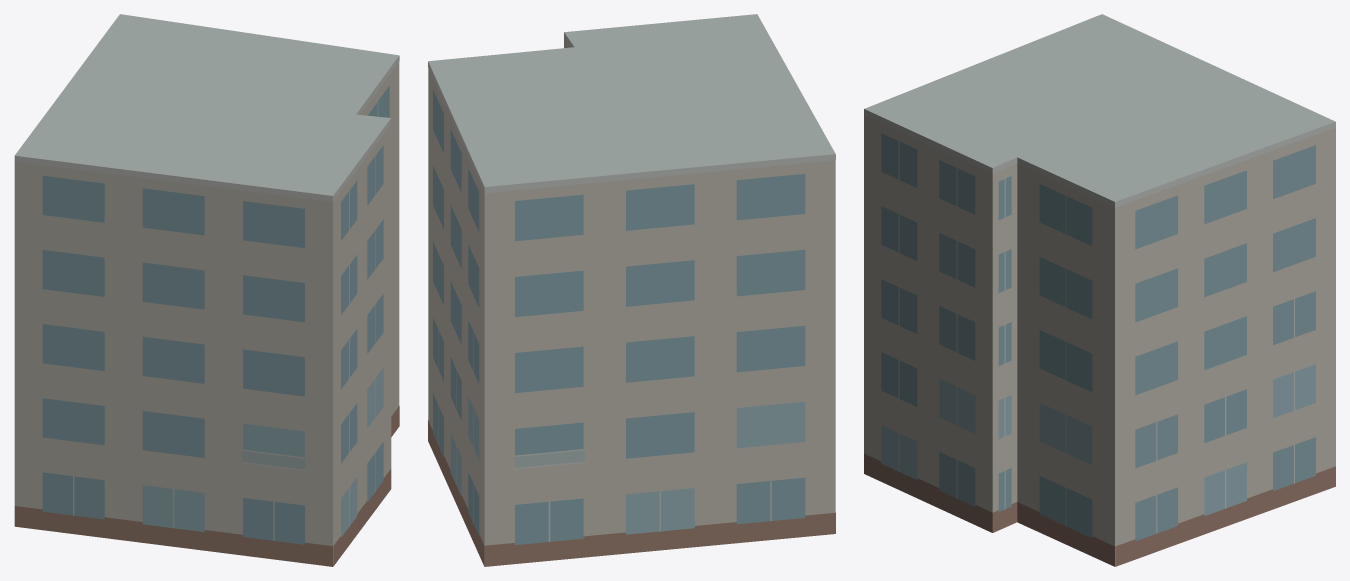
Rendered from survey-upis-32886784.glb.
3 views of the same model, side by side, from view 1: azimuth 30°, elevation 25°; view 2: azimuth 150°, elevation 25°; view 3: azimuth 270°, elevation 25° (orthographic). The views are drawn at different scales.
Visible parts, largest first — view 1: survey-upis-32886784.tmp; view 2: survey-upis-32886784.tmp; view 3: survey-upis-32886784.tmp.
Boxes of the visible parts, box(x1,y1,x2,y2) form: survey-upis-32886784.tmp: box(14, 14, 399, 566); survey-upis-32886784.tmp: box(428, 14, 835, 566); survey-upis-32886784.tmp: box(864, 14, 1335, 566).
Size of the model in its own units: 16.74 by 15.15 by 17.76.
